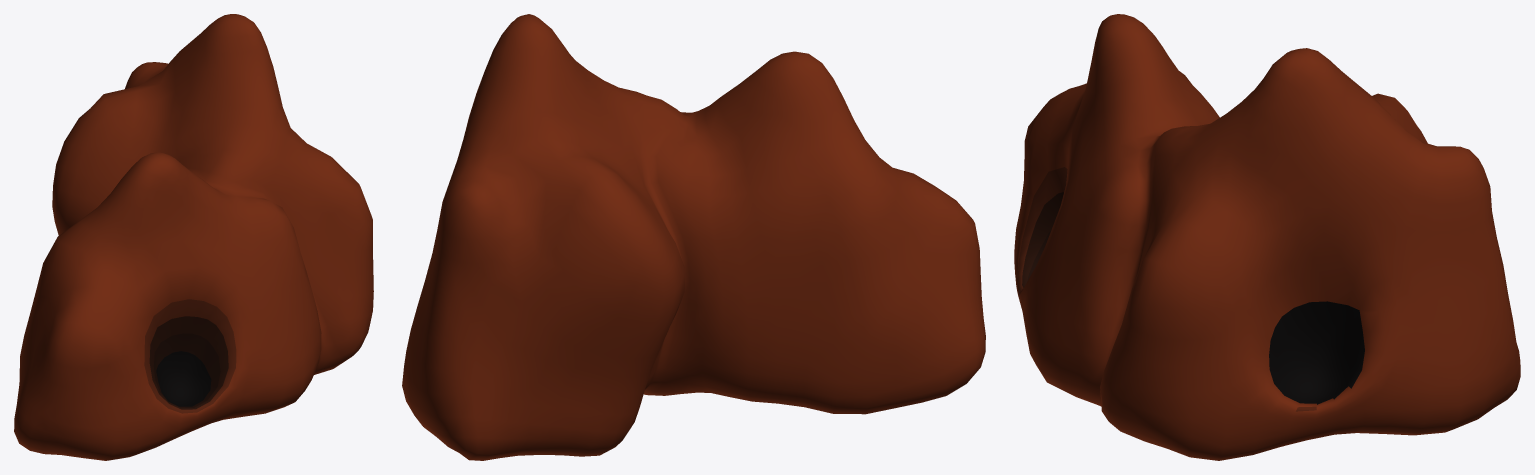
Rendered from ANTHILL_00I.fbx.
3 views of the same model, side by side, from view 1: azimuth 30°, elevation 25°; view 2: azimuth 150°, elevation 25°; view 3: azimuth 270°, elevation 25° (orthographic). The views are drawn at different scales.
Parts seen in each view (by area): view 1: ANTHILL_00I; view 2: ANTHILL_00I; view 3: ANTHILL_00I.
Boxes of the visible parts, left/top/right/bottom form: ANTHILL_00I: left=14, top=14, right=373, bottom=460; ANTHILL_00I: left=402, top=14, right=985, bottom=460; ANTHILL_00I: left=1014, top=14, right=1520, bottom=460.
Bounding box in the file's own units: 3.25 × 2.58 × 3.06.
